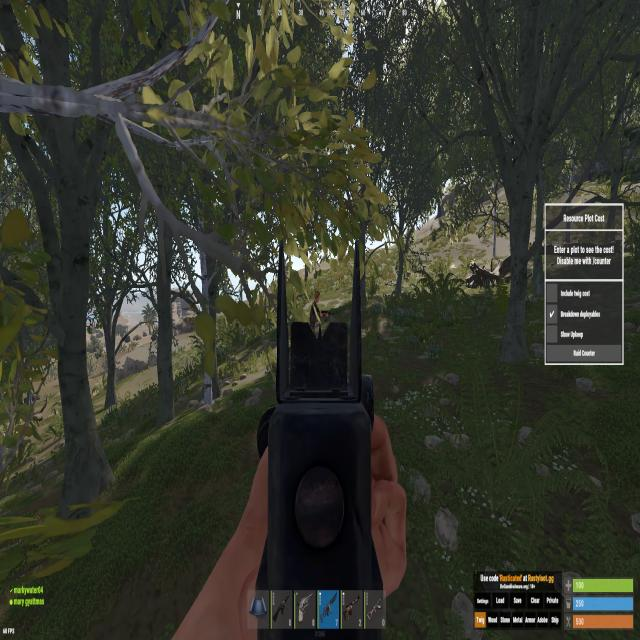Player: (309, 290, 321, 328)
